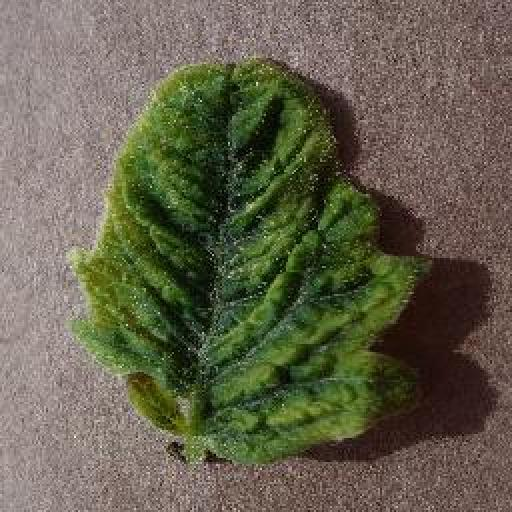disease_tomato: (65, 55, 423, 465)
